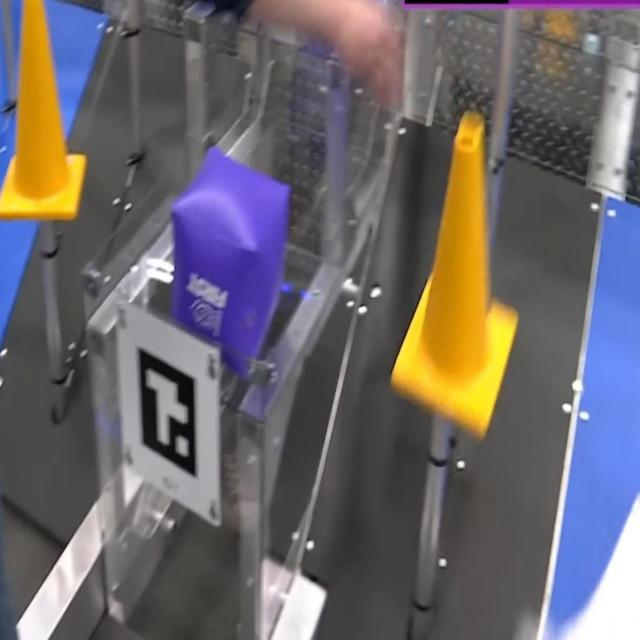frc_cone: (389, 112, 519, 446), (0, 0, 86, 220)
frc_cube: (171, 144, 293, 396)
